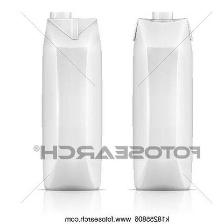carton: (34, 4, 107, 194), (129, 6, 198, 194)
